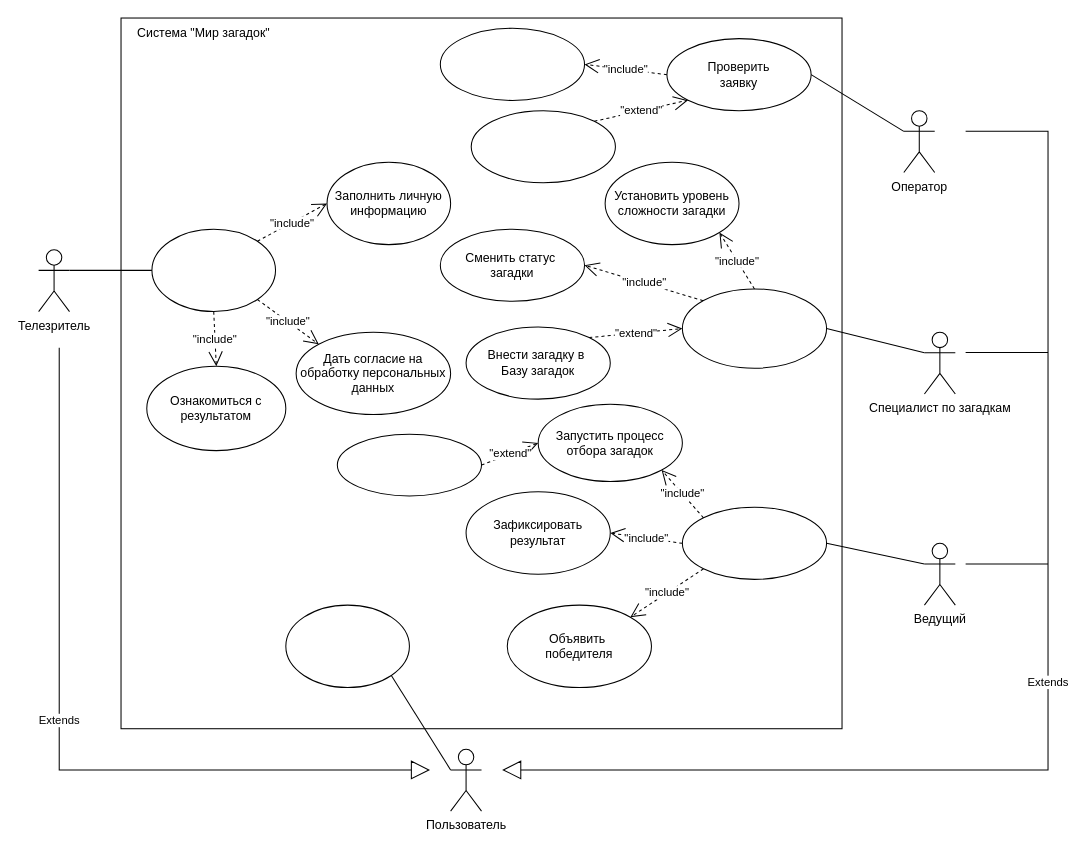
Some shapes in this 1086 by 851 pixel diagram are drawn without their labels. The shapes that lost their labels are listed below. From the top down, each one's box as (x1, y1, x2, y2) in pixels, then its label:
(439, 27, 585, 100): Изменить статус заявки
(470, 110, 615, 183): Направить заявку специалисту по загадкам
(151, 228, 276, 312): Направить заявку на рассмотрение
(681, 288, 827, 368): Проверить загадку и ответ
(336, 433, 482, 496): Отклонить загадку
(681, 506, 827, 579): Провести игру
(285, 604, 409, 688): Сообщить об ошибке в работы системы
